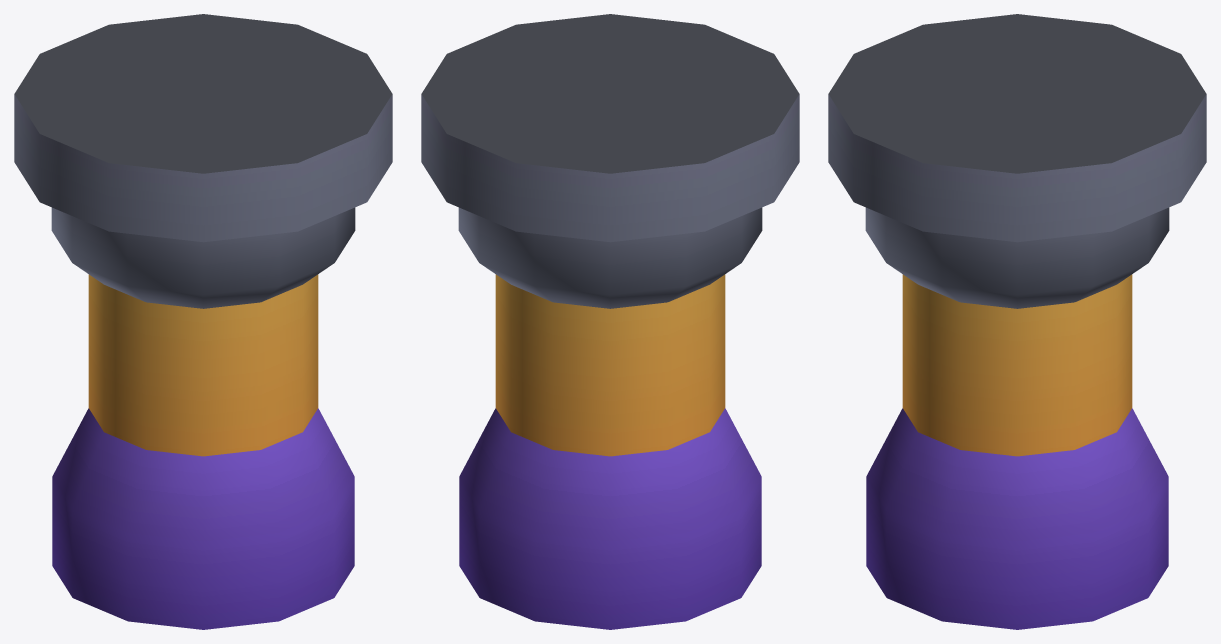
File: column.glb
3 renders of one model, left to right at view 1: azimuth 30°, elevation 25°; view 2: azimuth 150°, elevation 25°; view 3: azimuth 270°, elevation 25°, orthographic.
Parts seen in each view (by area): view 1: column; view 2: column; view 3: column.
Part boxes in pixels (bbox=[...]): column: bbox=[14, 14, 392, 629]; column: bbox=[421, 14, 799, 629]; column: bbox=[828, 14, 1206, 629].
Bounding box in the file's own units: 0.7258 × 1 × 0.7258.
1 material, 1 textured.
